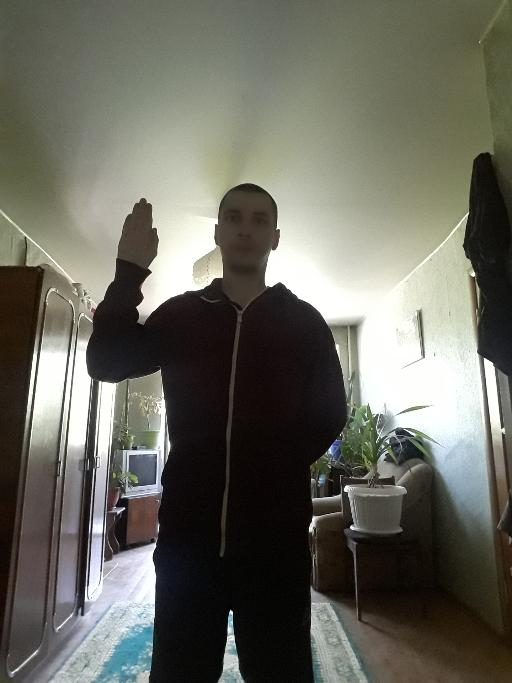stop: (114, 193, 160, 274)
